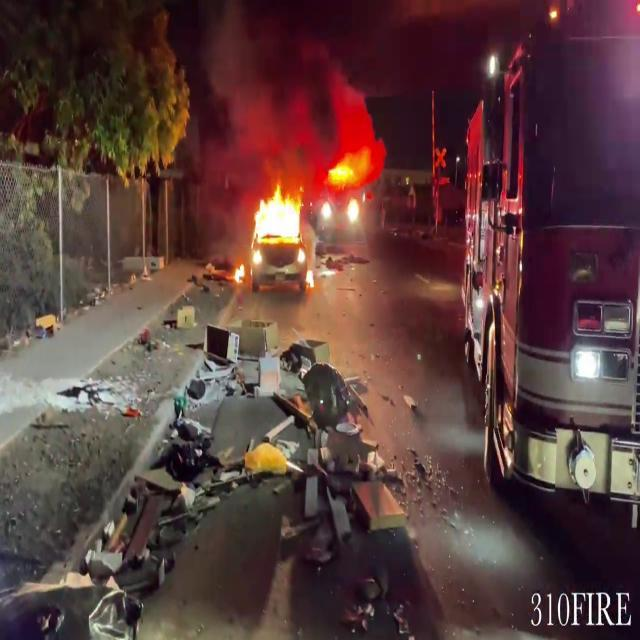Fire: (233, 178, 314, 274)
Smoke: (192, 1, 368, 188)
